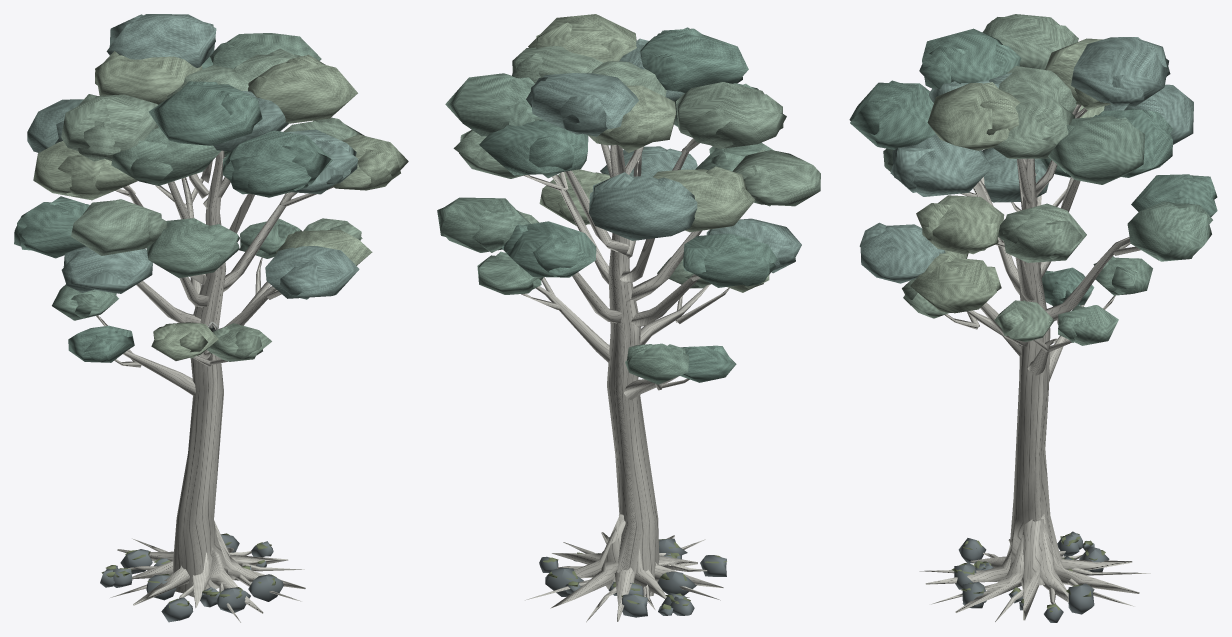
File: tree.glb
3 views of the same model, side by side, from view 1: azimuth 30°, elevation 25°; view 2: azimuth 150°, elevation 25°; view 3: azimuth 270°, elevation 25° (orthographic). The views are drawn at different scales.
Visible parts, largest first — view 1: canopy, bark; view 2: canopy, bark; view 3: canopy, bark.
Boxes of the visible parts, <box> form: canopy: <box>14,14,408,362</box>; bark: <box>96,150,333,622</box>; canopy: <box>437,14,820,384</box>; bark: <box>521,138,729,622</box>; canopy: <box>849,14,1217,345</box>; bark: <box>919,104,1150,622</box>.
Bounding box in the file's own units: 12.72 × 19.82 × 12.09.
Materials: 2 (2 with a texture image).
